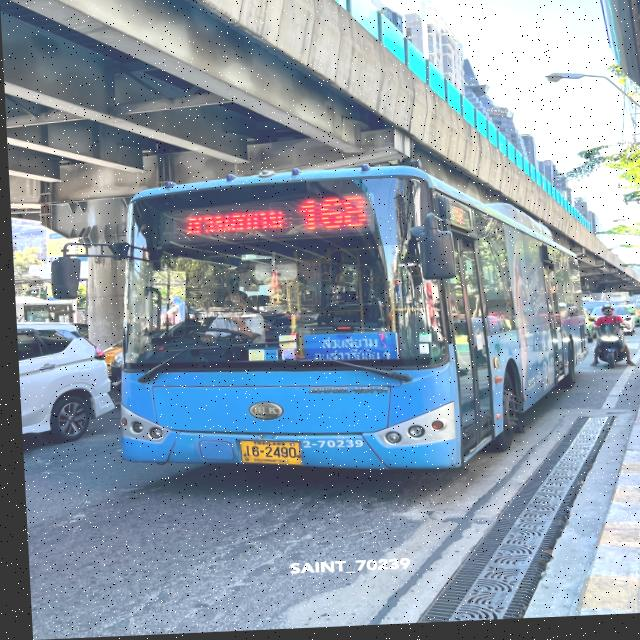BMTA-bus: (113, 170, 580, 476)
Bus Line Number: (292, 193, 371, 237)
Bus Side Number: (297, 435, 360, 457)
Destination Sign: (299, 333, 393, 369)
